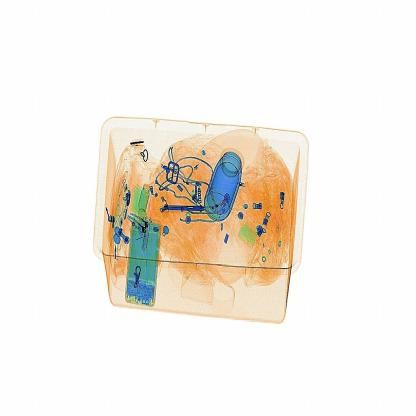wrench: (157, 194, 216, 218)
